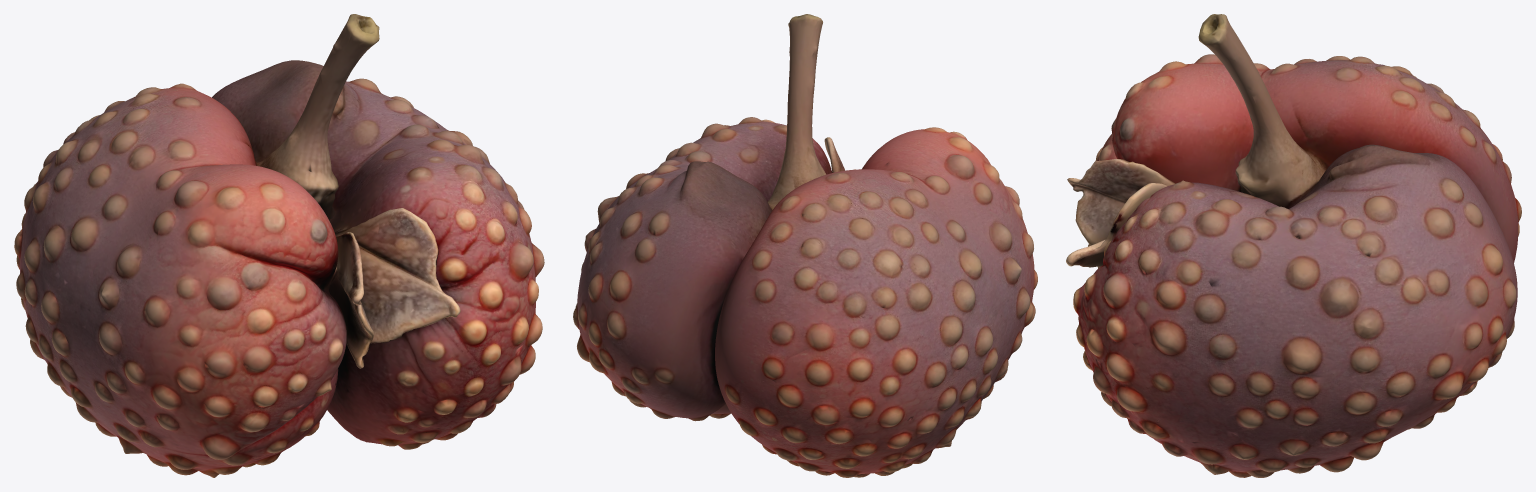
File: wuzhuyu.glb
The picture shows the model from 3 angles, left to right: view 1: azimuth 30°, elevation 25°; view 2: azimuth 150°, elevation 25°; view 3: azimuth 270°, elevation 25°; orthographic projection. The views are drawn at different scales.
Parts seen in each view (by area): view 1: node_0; view 2: node_0; view 3: node_0.
Boxes of the visible parts, bbox=[...] form: node_0: bbox=[14, 14, 544, 477]; node_0: bbox=[573, 14, 1037, 477]; node_0: bbox=[1066, 14, 1521, 477].
Bounding box in the file's own units: 1.06 × 1.01 × 0.9744.
Materials: 1 (1 with a texture image).
